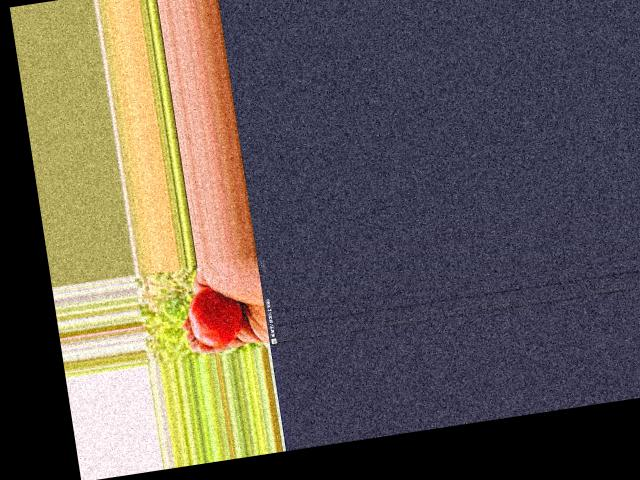tomato: (186, 284, 246, 349)
